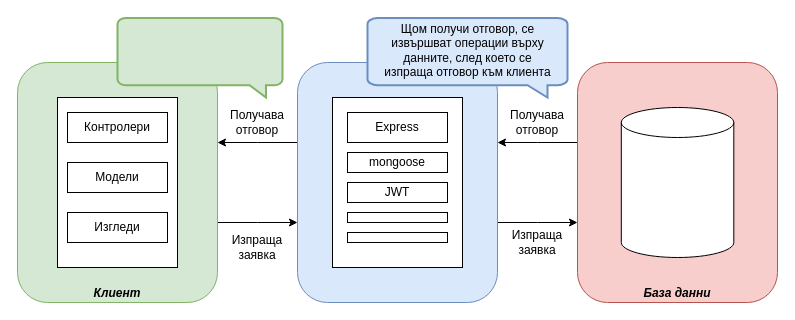
This 795x320 diagram has some shape labels left out. The shapes that lost their labels are listed below. From the top down, each one's box as (x1, y1, x2, y2) in pixels, then its label:
(116, 16, 283, 98): Щом получи отговор, обикновено настъпва видима промяна при клиента
(56, 96, 178, 268): AngularJS
(332, 96, 462, 268): NodeJS
(296, 62, 498, 302): Сървър
